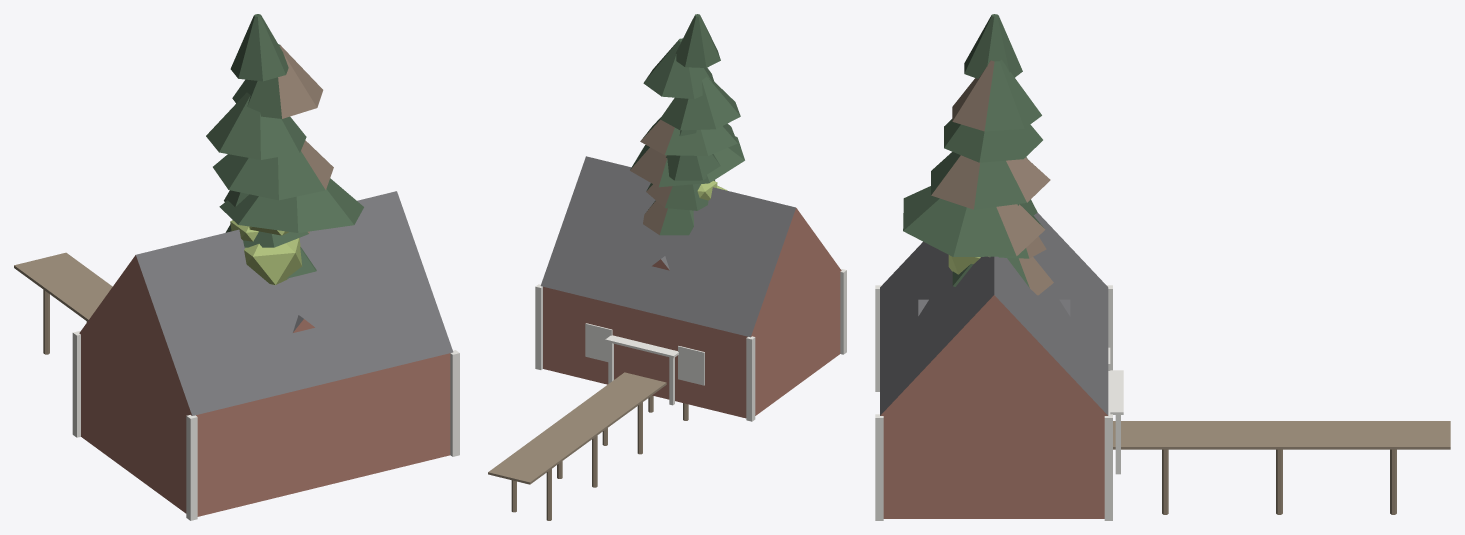
Rendered from archipelago-kit.glb.
3 renders of one model, left to right at view 1: azimuth 30°, elevation 25°; view 2: azimuth 150°, elevation 25°; view 3: azimuth 270°, elevation 25°, orthographic. The views are drawn at different scales.
Parts seen in each view (by area): view 1: house_red, pine_b, jetty, birch, pine_a; view 2: house_red, pine_b, jetty, pine_a, house_red_b; view 3: house_red, pine_b, jetty, pine_a, house_red_b.
Boxes of the visible parts, x1,y1,x2,y2 form: house_red: (72,191,459,520); pine_b: (206,14,363,232); jetty: (14,252,112,354); birch: (230,220,301,285); pine_a: (224,190,316,278); house_red: (535,156,846,421); pine_b: (630,14,744,187); jetty: (488,372,688,520); pine_a: (643,130,720,235); house_red_b: (605,256,678,405); house_red: (875,212,1112,520); pine_b: (903,14,1050,256); jetty: (1113,421,1450,514); pine_a: (952,157,1053,295); house_red_b: (918,299,1123,474).
Size of the model in its own units: 8.25 by 14.03 by 15.12.
